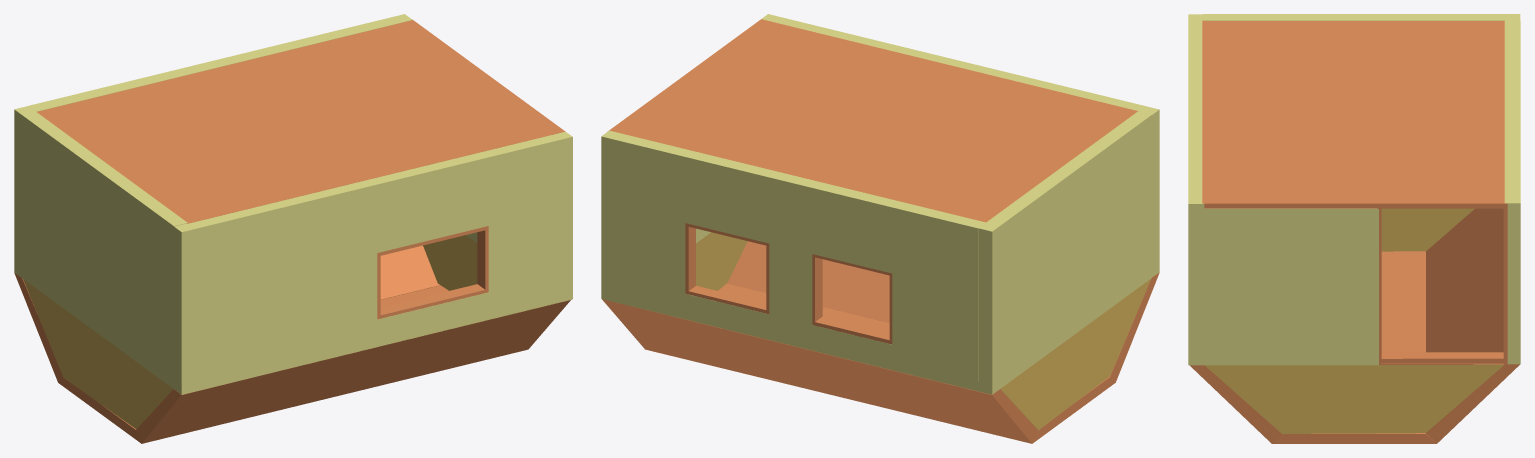
Rendered from CASAofc.fbx.
3 views of the same model, side by side, from view 1: azimuth 30°, elevation 25°; view 2: azimuth 150°, elevation 25°; view 3: azimuth 270°, elevation 25° (orthographic).
Parts seen in each view (by area): view 1: Cube, Cube.003, Cube.001, Cube.020, Cube.023, Cube.002, Cube.019, Cube.022, Cube.021, Cube.016, Cube.014; view 2: Cube.003, Cube.002, Cube.001, Cube.019, Cube.023, Cube.020, Cube, Cube.022, Cube.021, Cube.009, Cube.011, Cube.006 (+1 smaller); view 3: Cube.003, Cube.004, Cube.022, Cube.019, Cube.021, Cube, Cube.002, Cube.023, Cube.001, Cube.017, Cube.020, Cube.018.
Part boxes in pixels (x1=…): Cube: x1=174, y1=131, x2=572, y2=394; Cube.003: x1=37, y1=19, x2=565, y2=223; Cube.001: x1=14, y1=106, x2=187, y2=388; Cube.020: x1=136, y1=300, x2=570, y2=443; Cube.023: x1=23, y1=279, x2=173, y2=428; Cube.002: x1=28, y1=14, x2=412, y2=111; Cube.019: x1=14, y1=245, x2=439, y2=382; Cube.022: x1=423, y1=235, x2=477, y2=290; Cube.021: x1=59, y1=285, x2=448, y2=443; Cube.016: x1=380, y1=284, x2=485, y2=318; Cube.014: x1=477, y1=226, x2=488, y2=292; Cube.003: x1=607, y1=19, x2=1137, y2=222; Cube.002: x1=601, y1=130, x2=985, y2=391; Cube.001: x1=978, y1=111, x2=1151, y2=394; Cube.019: x1=602, y1=299, x2=1037, y2=443; Cube.023: x1=1000, y1=279, x2=1150, y2=429; Cube.020: x1=727, y1=241, x2=1159, y2=382; Cube: x1=761, y1=14, x2=1159, y2=277; Cube.022: x1=696, y1=232, x2=747, y2=290; Cube.021: x1=658, y1=283, x2=1114, y2=443; Cube.009: x1=688, y1=286, x2=766, y2=313; Cube.011: x1=813, y1=316, x2=891, y2=343; Cube.006: x1=685, y1=223, x2=695, y2=294; Cube.003: x1=1202, y1=20, x2=1507, y2=208; Cube.004: x1=1204, y1=208, x2=1378, y2=365; Cube.022: x1=1205, y1=364, x2=1503, y2=434; Cube.019: x1=1426, y1=208, x2=1519, y2=443; Cube.021: x1=1272, y1=251, x2=1436, y2=443; Cube: x1=1188, y1=14, x2=1204, y2=365; Cube.002: x1=1504, y1=20, x2=1520, y2=364; Cube.023: x1=1381, y1=208, x2=1474, y2=251; Cube.001: x1=1203, y1=14, x2=1520, y2=20; Cube.017: x1=1378, y1=208, x2=1503, y2=364; Cube.020: x1=1190, y1=365, x2=1281, y2=443; Cube.018: x1=1503, y1=208, x2=1507, y2=364.
Bounding box in the file's own units: 210 × 125 × 156.
